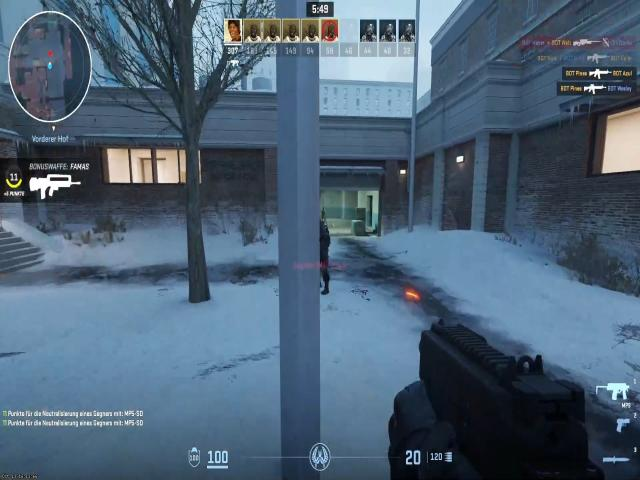CT: (319, 218, 333, 273)
